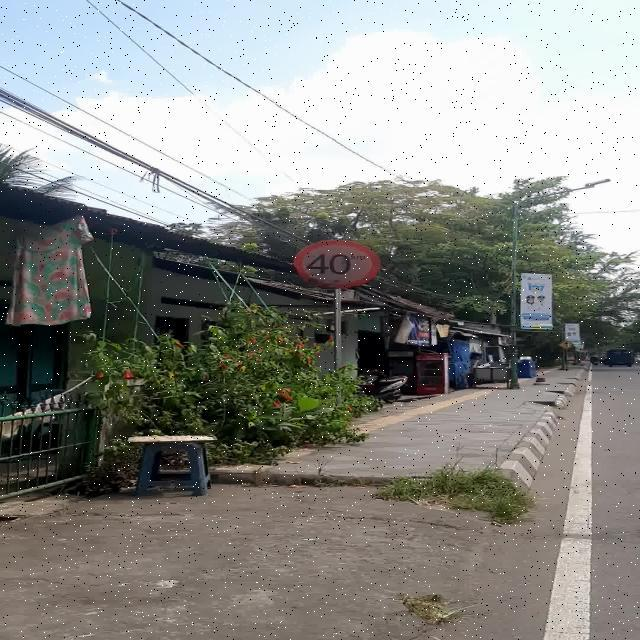Kecepatan Maks. 40 km: (294, 240, 380, 288)
